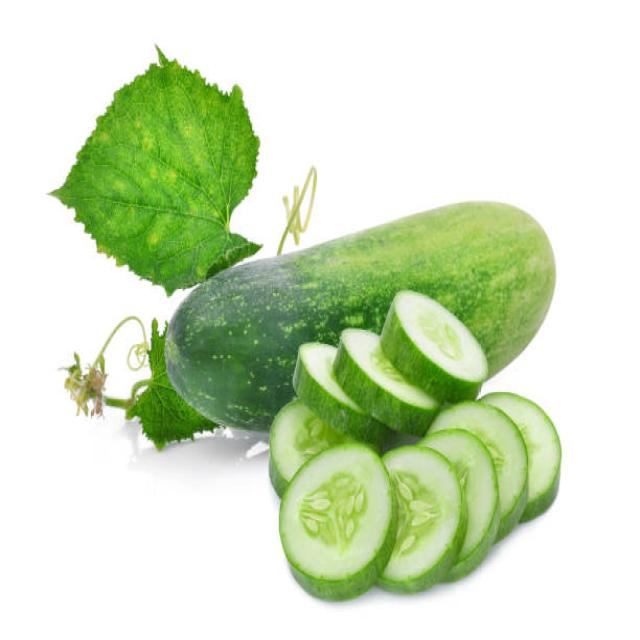cucumber: (164, 198, 556, 435)
